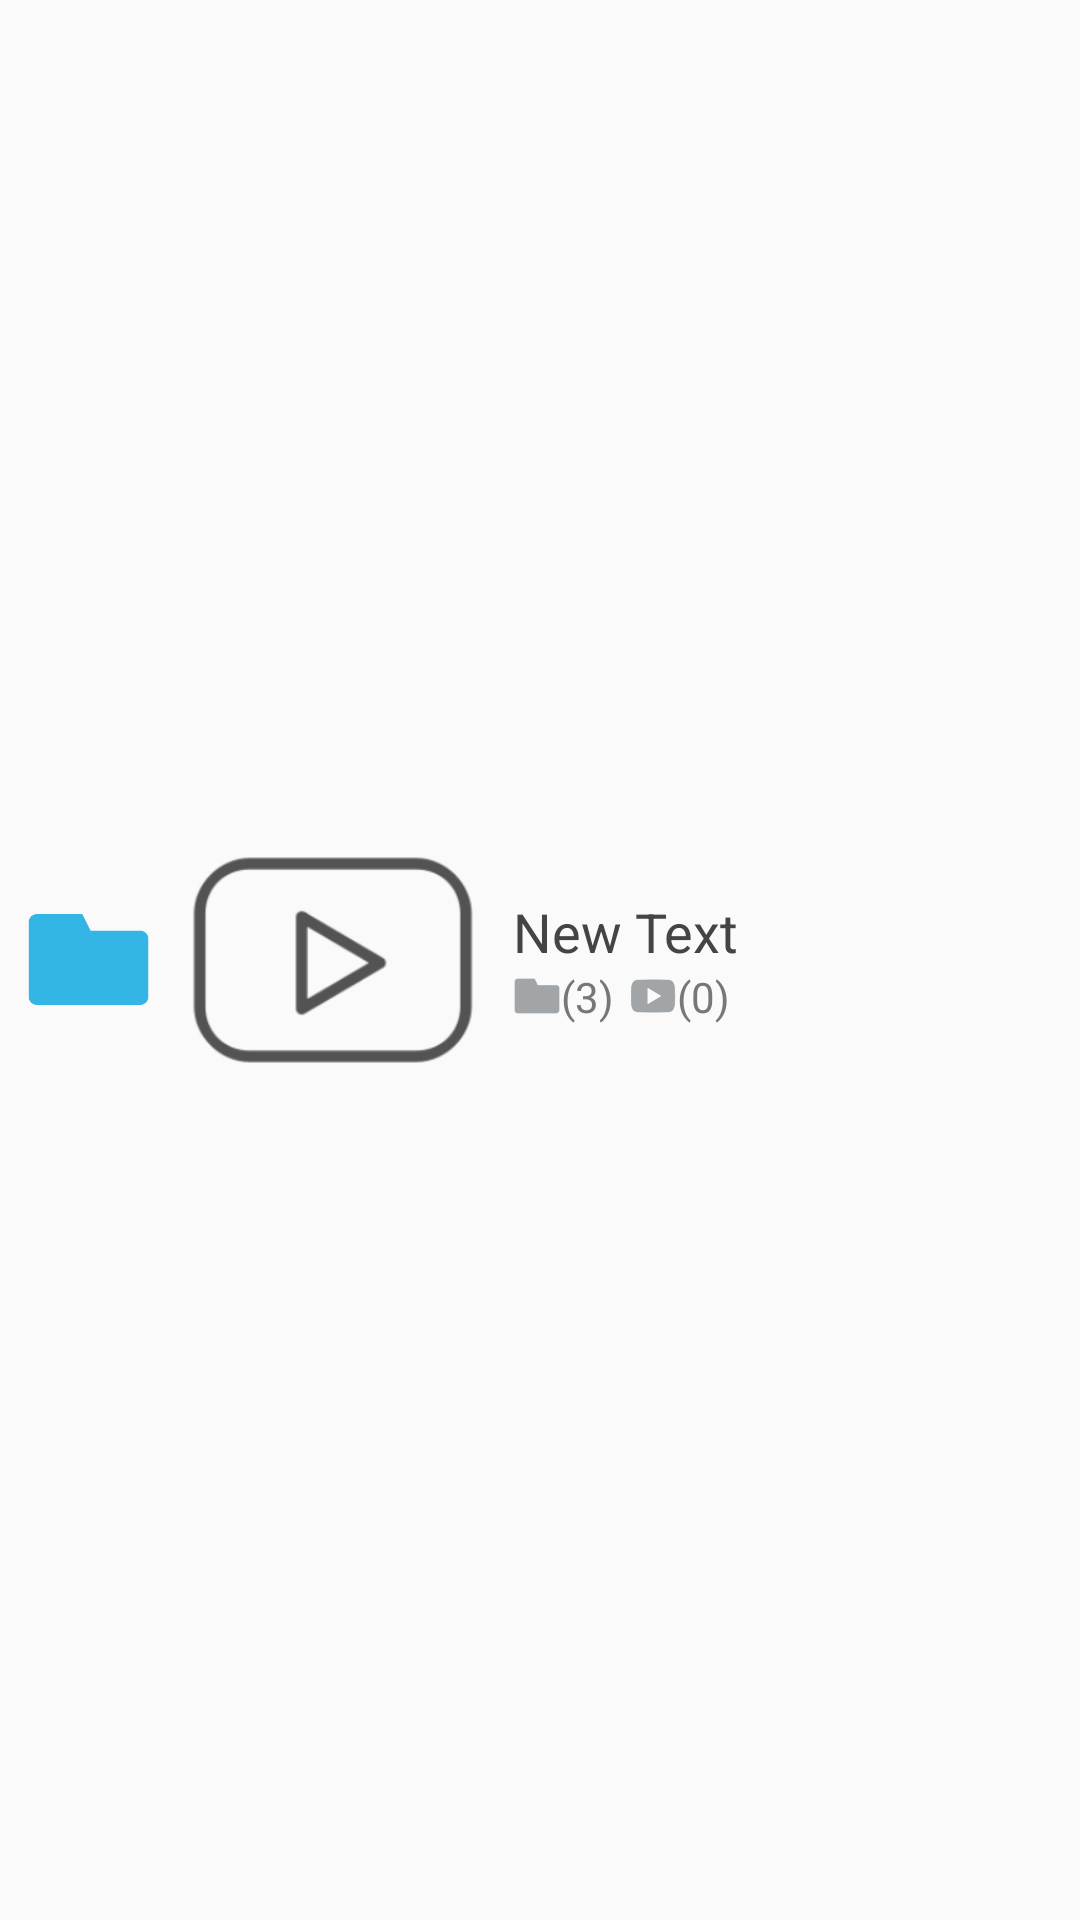

Icon click points for this 1080 × 1920 phone screenshot, format [x,y]:
folder: [88,959], [537,996]
video: [333,960]
